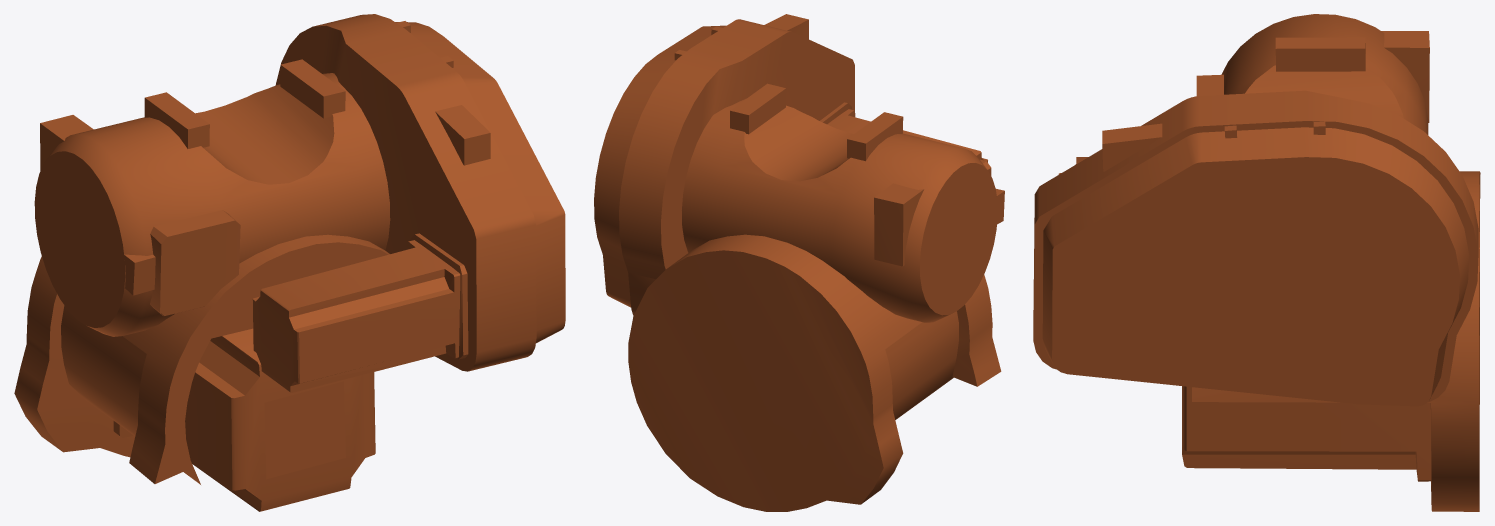
File: RobotArm_ScopeHead.glb
3 views of the same model, side by side, from view 1: azimuth 30°, elevation 25°; view 2: azimuth 150°, elevation 25°; view 3: azimuth 270°, elevation 25° (orthographic). The views are drawn at different scales.
Visible parts, largest first — view 1: RobotArmScopeHead; view 2: RobotArmScopeHead; view 3: RobotArmScopeHead.
Boxes of the visible parts, x1,y1,x2,y2 form: RobotArmScopeHead: (14, 14, 565, 511); RobotArmScopeHead: (594, 14, 1004, 511); RobotArmScopeHead: (1033, 14, 1480, 511).
Size of the model in its own units: 0.4977 by 0.5812 by 0.5209.
